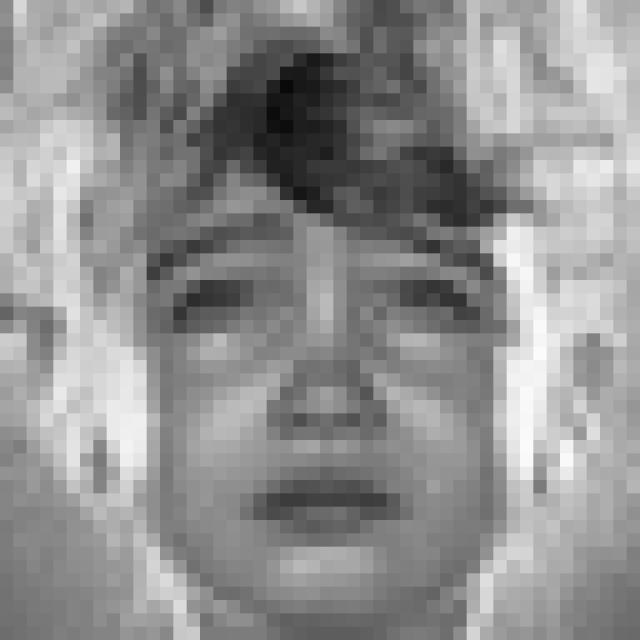sad: (130, 200, 520, 556)
